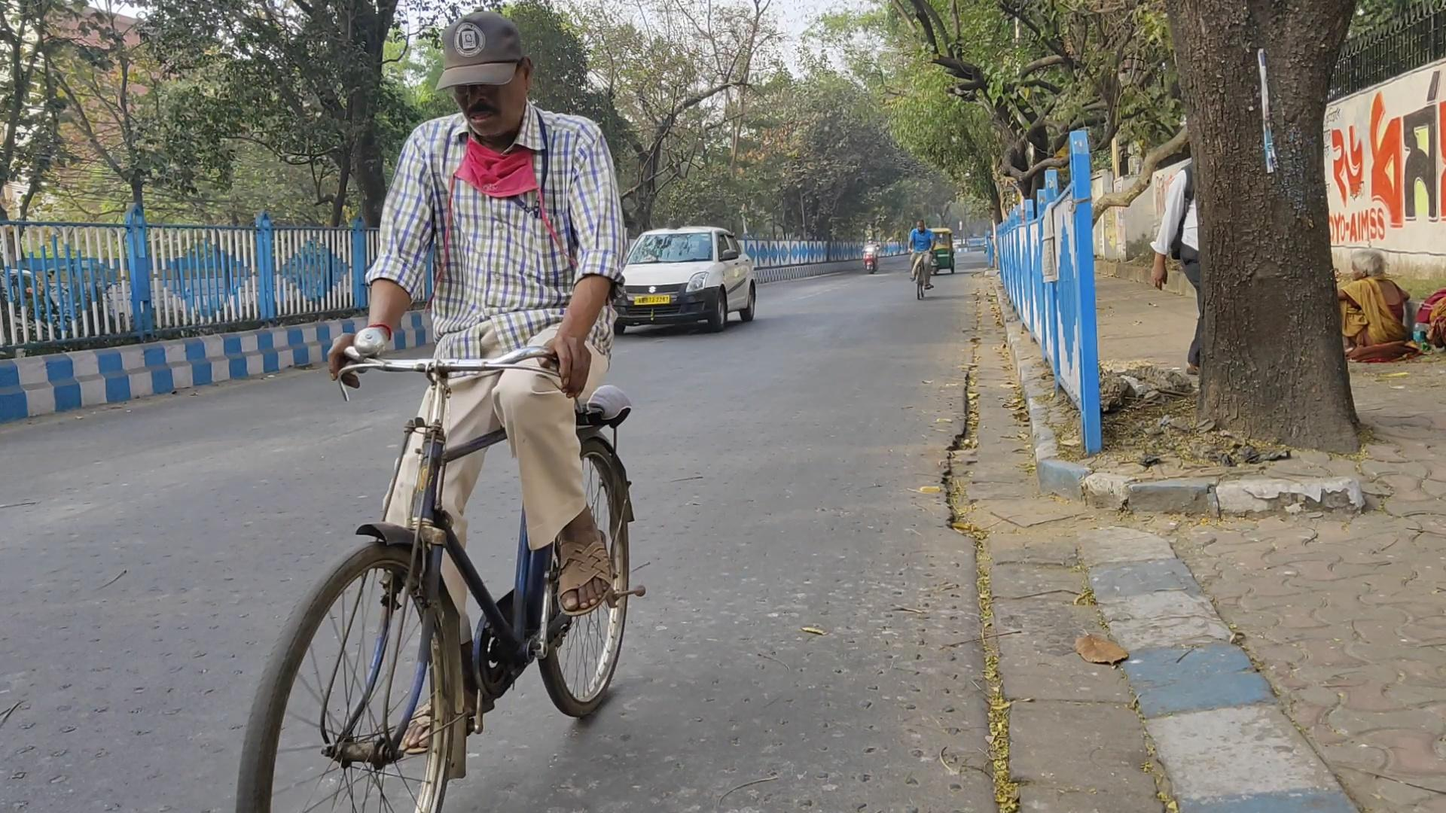Auto: (925, 227, 956, 276)
bike: (234, 9, 647, 813), (908, 219, 935, 300), (862, 234, 880, 275)
car: (618, 223, 755, 333)
